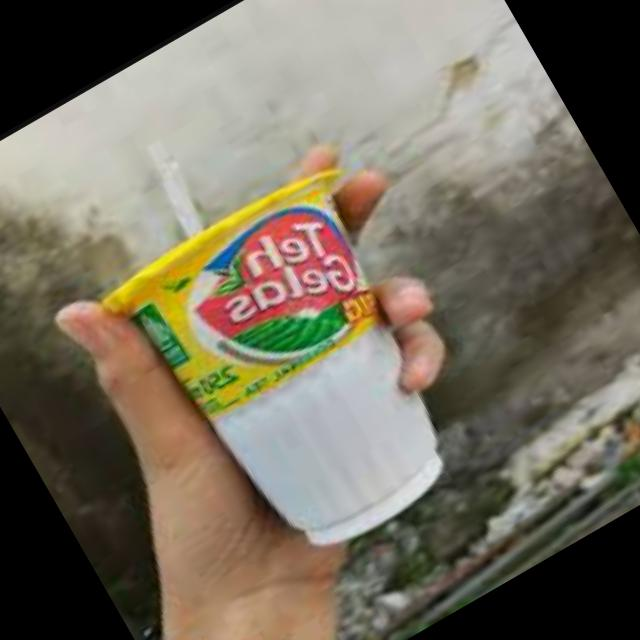GelasPlastik: (90, 150, 508, 592)
